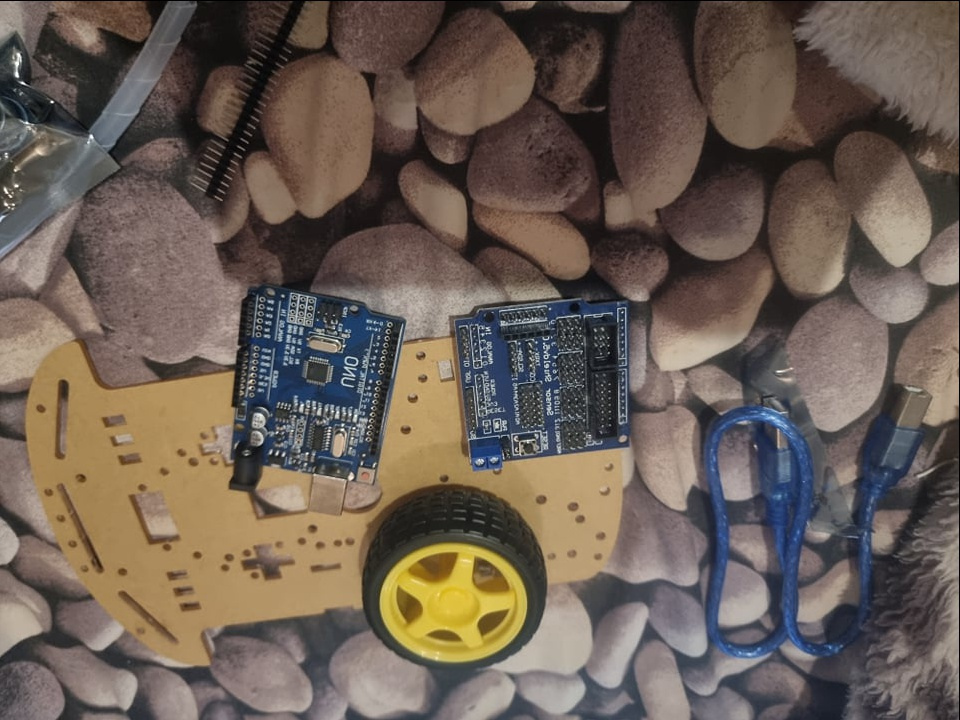5V EXPANSION: (457, 297, 631, 470)
UNO R3: (228, 284, 408, 514)
